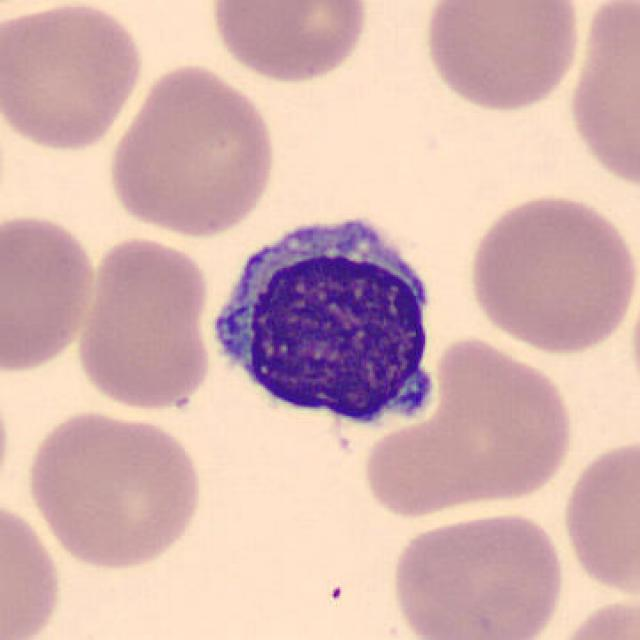Lymphocyte: (197, 198, 450, 444)
RBC: (366, 332, 578, 516), (103, 60, 279, 241), (21, 406, 208, 573), (462, 189, 638, 356), (71, 232, 213, 412), (384, 506, 569, 640), (2, 0, 148, 155), (418, 0, 585, 115), (0, 208, 100, 376), (563, 0, 640, 197), (359, 409, 491, 520), (206, 0, 373, 86), (556, 432, 638, 603), (0, 495, 66, 640), (546, 592, 638, 640), (0, 365, 14, 520)
